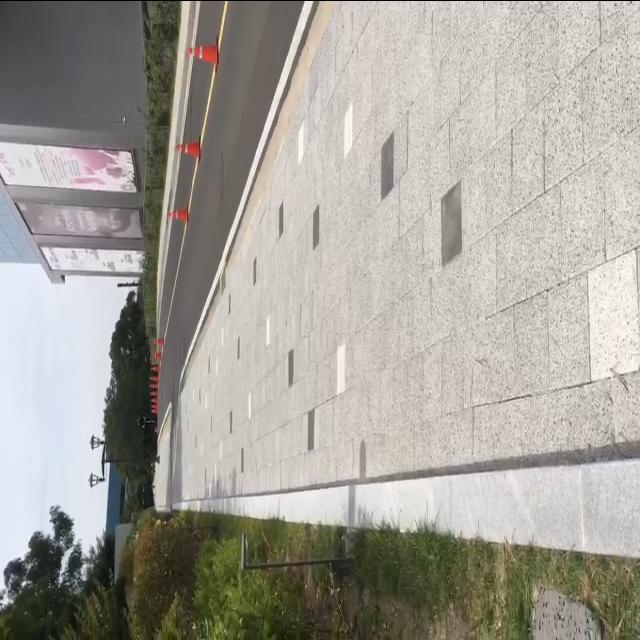obstacle: (184, 32, 221, 79), (170, 134, 205, 171), (164, 200, 190, 235)
road: (155, 0, 334, 429)
sidewalk: (170, 0, 640, 554), (155, 0, 201, 336), (158, 400, 173, 509)
